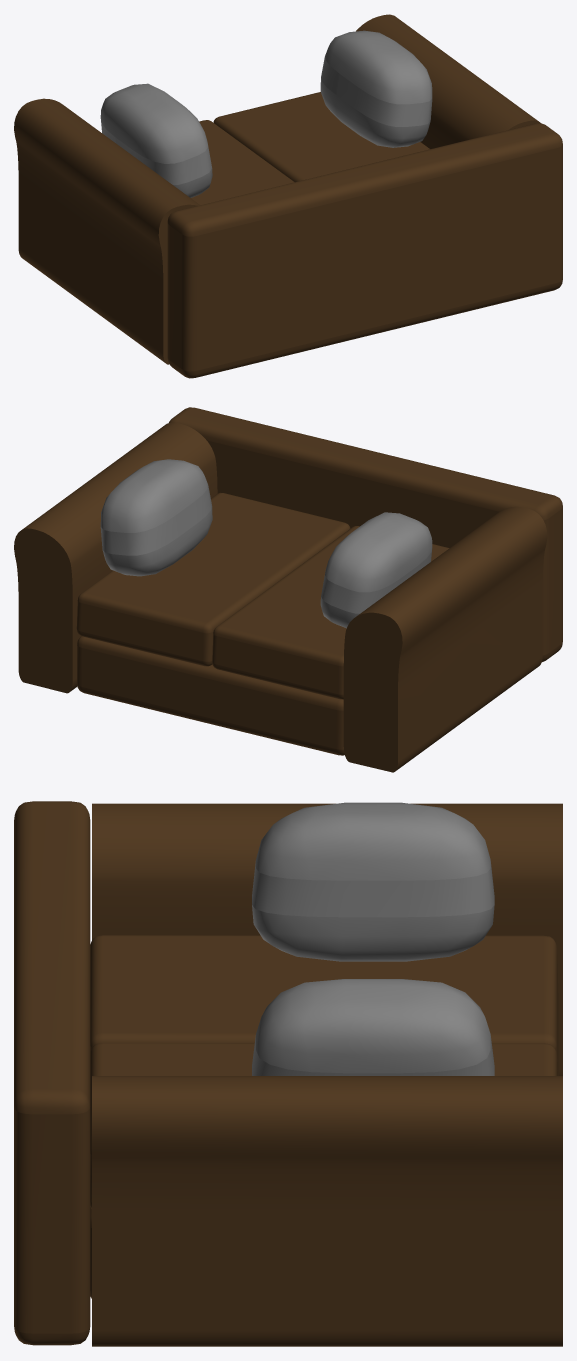
The model's file is Sofas and recliners.glb.
The picture shows the model from 3 angles, top to bottom: view 1: azimuth 30°, elevation 25°; view 2: azimuth 150°, elevation 25°; view 3: azimuth 270°, elevation 25°; orthographic projection. The views are drawn at different scales.
Visible parts, largest first — view 1: BackRest, Curvy (×2), ThrowPillow (×2), CornerPillow, MainExtraPillow; view 2: Curvy (×2), BackRest, CornerPillow, ThrowPillow (×2), Bottom, MainExtraPillow; view 3: Curvy (×2), ThrowPillow (×2), BackRest, MainExtraPillow, CornerPillow.
Part boxes in pixels (box(x1,y1,x2,y2)): BackRest: box(167, 123, 562, 378); Curvy (×2): box(14, 14, 540, 364); ThrowPillow (×2): box(100, 30, 432, 197); CornerPillow: box(213, 92, 429, 182); MainExtraPillow: box(191, 120, 294, 205); Curvy (×2): box(14, 422, 547, 772); BackRest: box(169, 407, 562, 661); CornerPillow: box(76, 492, 350, 666); ThrowPillow (×2): box(100, 459, 432, 628); Bottom: box(77, 636, 344, 755); MainExtraPillow: box(212, 526, 449, 699); Curvy (×2): box(92, 803, 562, 1346); ThrowPillow (×2): box(252, 802, 494, 1075); BackRest: box(14, 801, 90, 1345); MainExtraPillow: box(90, 935, 558, 1075); CornerPillow: box(90, 1043, 557, 1208).
Bounding box in the file's own units: 1.43 × 0.651 × 1.08.
